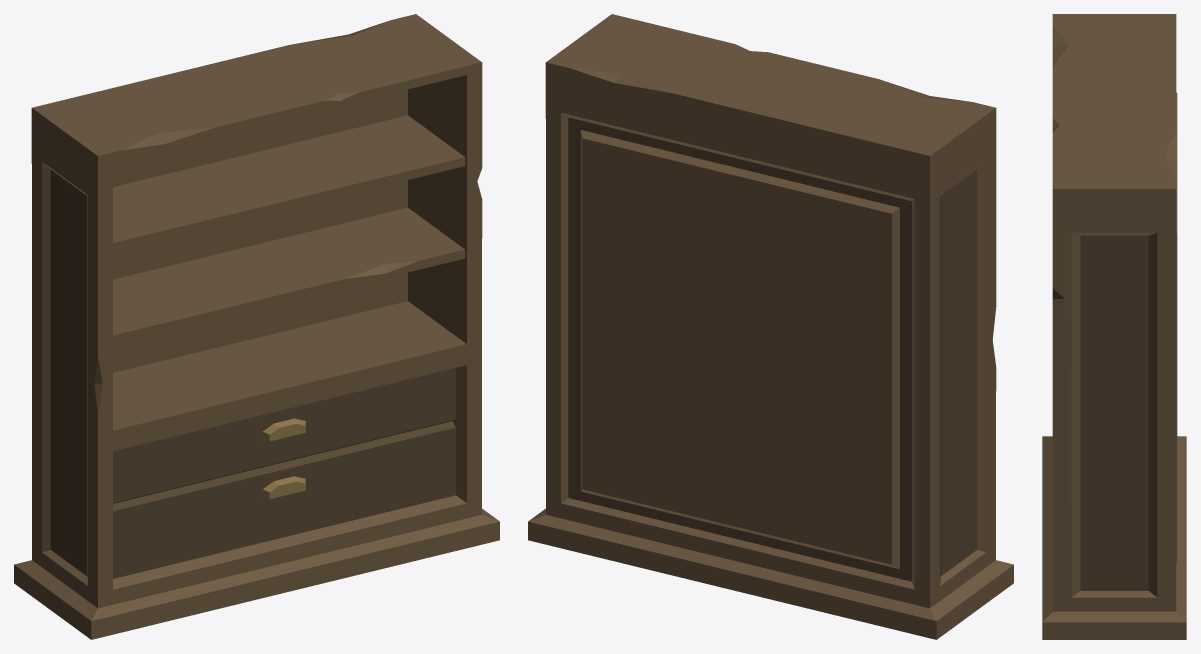
File: SM_Prop_Shelf_05.glb
The picture shows the model from 3 angles, left to right: view 1: azimuth 30°, elevation 25°; view 2: azimuth 150°, elevation 25°; view 3: azimuth 270°, elevation 25°; orthographic projection. The views are drawn at different scales.
Visible parts, largest first — view 1: SM_Prop_Shelf_05; view 2: SM_Prop_Shelf_05; view 3: SM_Prop_Shelf_05.
Part boxes in pixels (bbox=[...]): SM_Prop_Shelf_05: bbox=[14, 14, 499, 639]; SM_Prop_Shelf_05: bbox=[528, 14, 1013, 639]; SM_Prop_Shelf_05: bbox=[1042, 14, 1186, 639].
Bounding box in the file's own units: 1.36 × 1.52 × 0.4476.
Materials: 1 (1 with a texture image).
